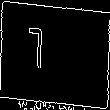L_S: (47, 29, 63, 81)
